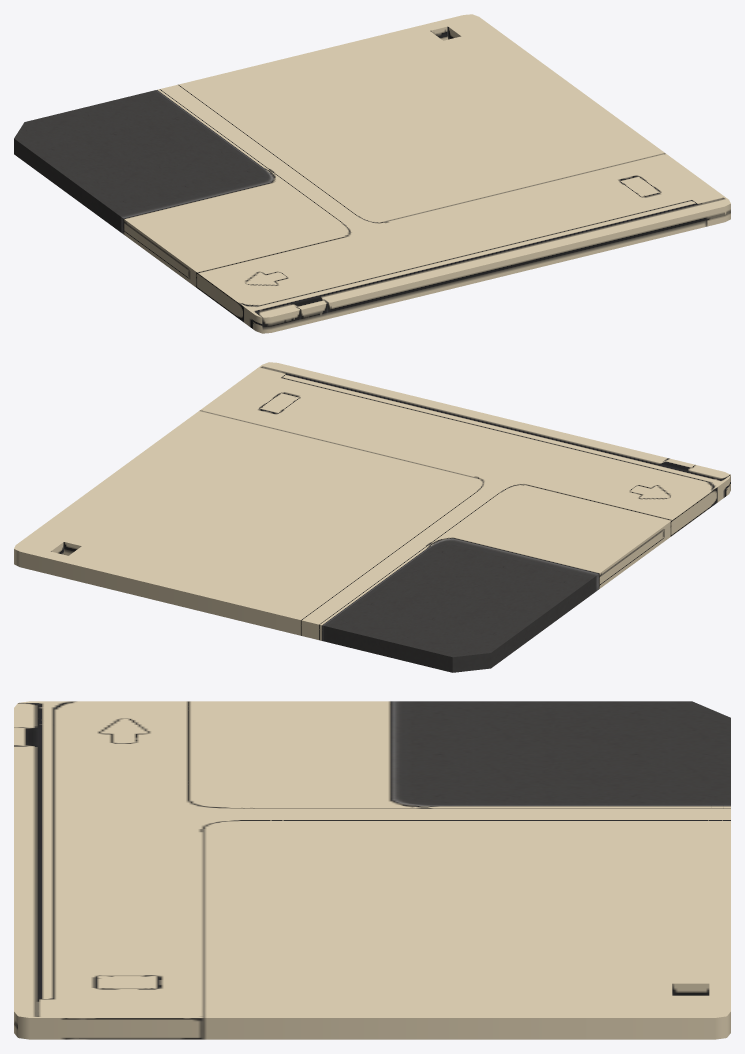
The model's file is floppy_cream.glb.
The picture shows the model from 3 angles, top to bottom: view 1: azimuth 30°, elevation 25°; view 2: azimuth 150°, elevation 25°; view 3: azimuth 270°, elevation 25°; orthographic projection. The views are drawn at different scales.
Visible parts, largest first — view 1: disk1; view 2: disk1; view 3: disk1.
Part boxes in pixels (x1,y1,x2,y2): disk1: (14, 14, 730, 333); disk1: (14, 362, 730, 672); disk1: (14, 701, 730, 1039).
Bounding box in the file's own units: 3.7 × 0.1181 × 3.54.
1 material, 1 textured.
